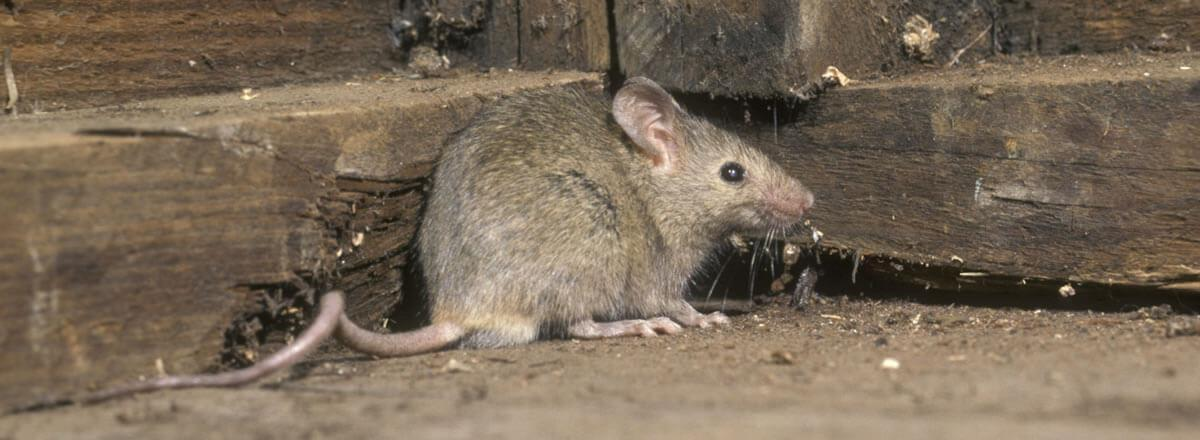rat: (85, 77, 814, 400)
